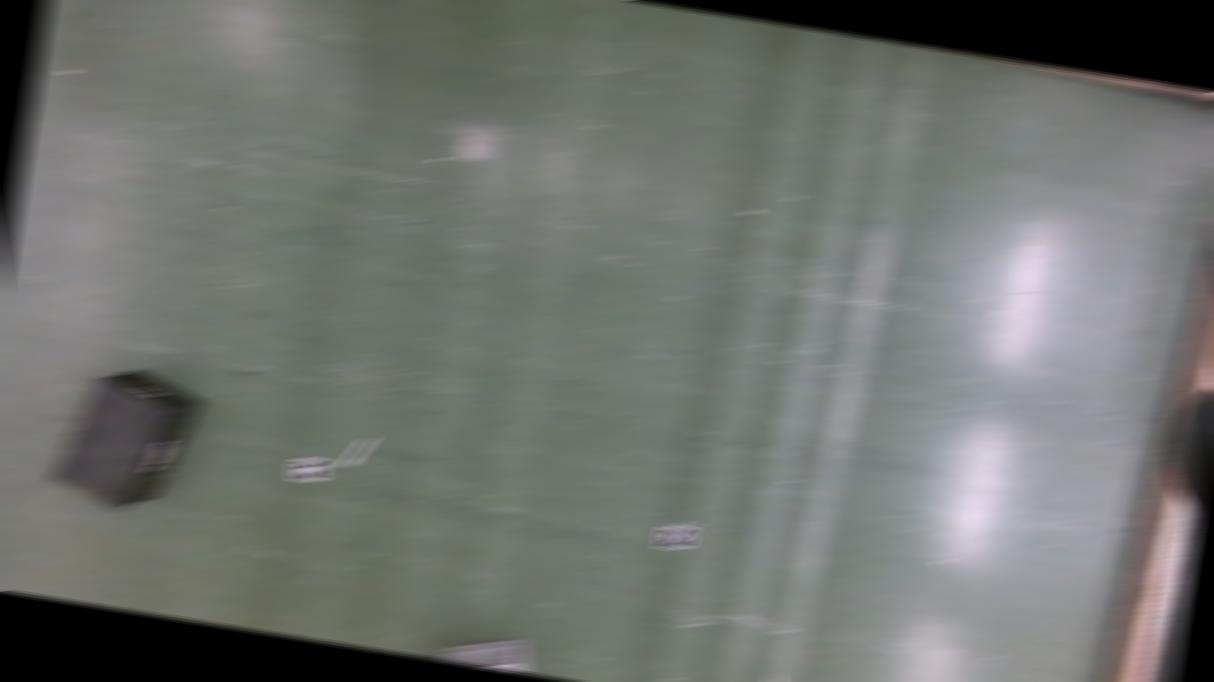probes: (339, 432, 374, 469), (764, 672, 790, 682)
rako: (44, 356, 204, 518), (436, 631, 534, 673)
